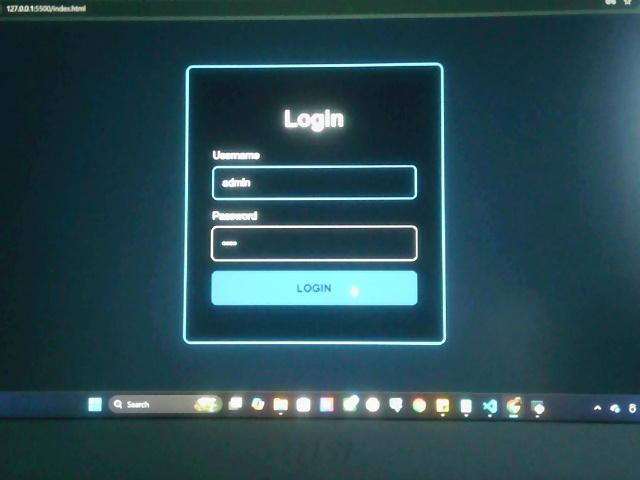login_button: (212, 272, 418, 306)
login_form: (184, 63, 445, 346)
password_input: (211, 225, 419, 262)
title_text: (279, 105, 348, 137)
username_input: (212, 164, 420, 202)
